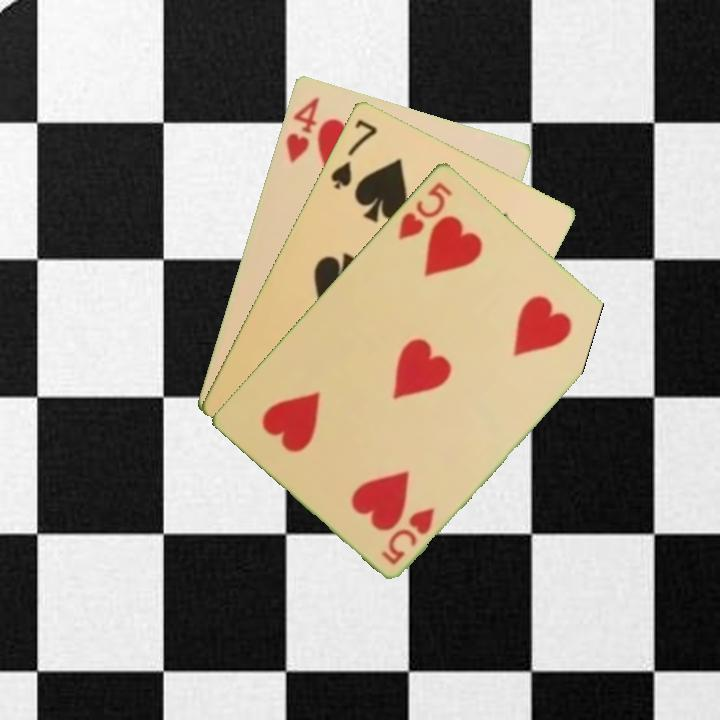4h: (282, 92, 322, 165)
5h: (394, 177, 456, 243), (377, 503, 438, 568)
7s: (327, 115, 380, 192)
